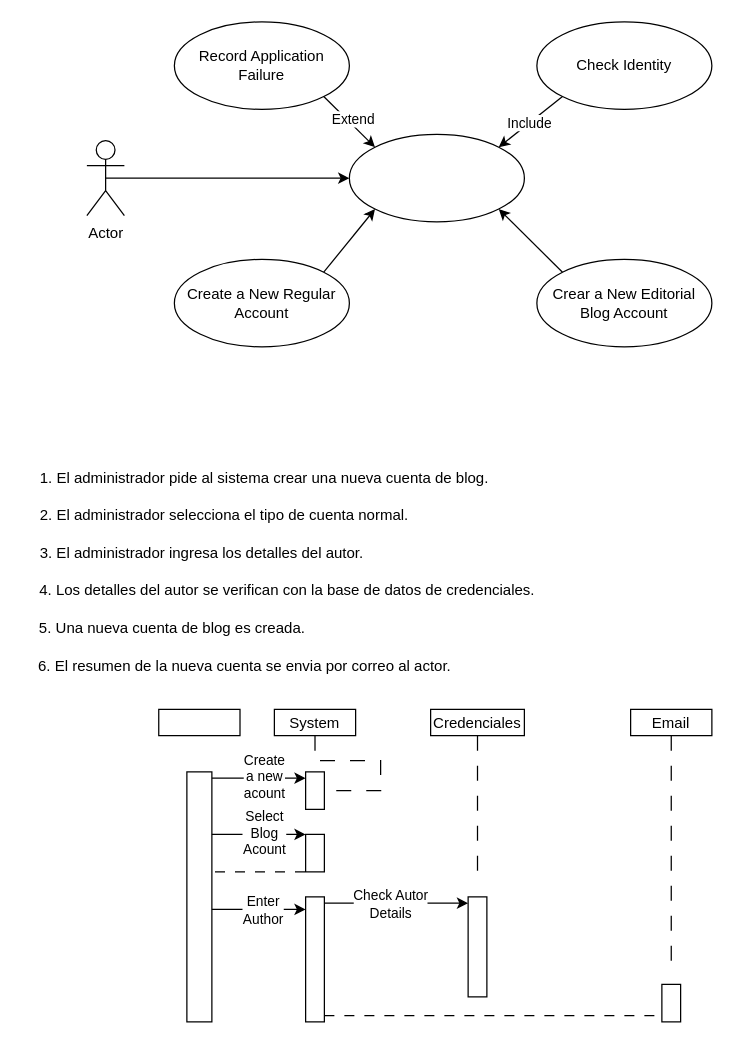
Some shapes in this 734 by 1044 pixel diagram are drawn without their labels. The shapes that lost their labels are listed below. From the top down, each one's centre as x and y in pixels, then its label:
At (x=436, y=177): "Create a New Blog Account".
At (x=199, y=722): "Admin".
